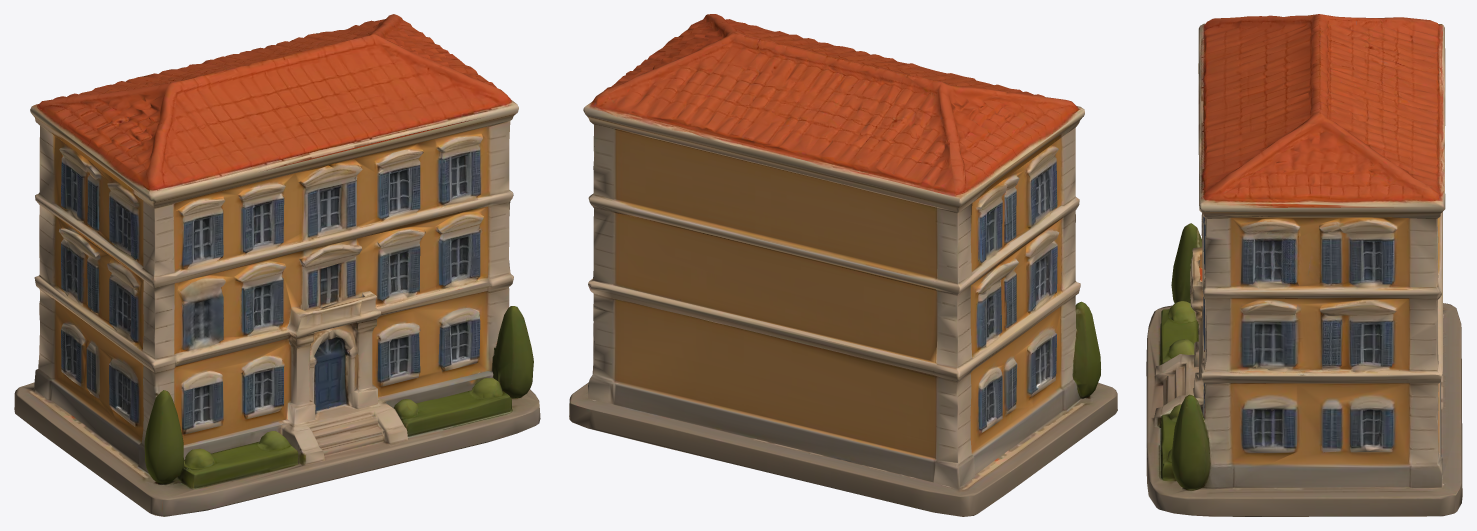
File: home-school.glb
The picture shows the model from 3 angles, left to right: view 1: azimuth 30°, elevation 25°; view 2: azimuth 150°, elevation 25°; view 3: azimuth 270°, elevation 25°; orthographic projection. The views are drawn at different scales.
Parts seen in each view (by area): view 1: textured_mesh.obj; view 2: textured_mesh.obj; view 3: textured_mesh.obj.
Part boxes in pixels (x1=…): textured_mesh.obj: x1=14, y1=14, x2=540, y2=516; textured_mesh.obj: x1=569, y1=14, x2=1117, y2=516; textured_mesh.obj: x1=1146, y1=14, x2=1462, y2=516.
Size of the model in its own units: 1.18 by 0.9996 by 0.8033.
1 material, 1 textured.
